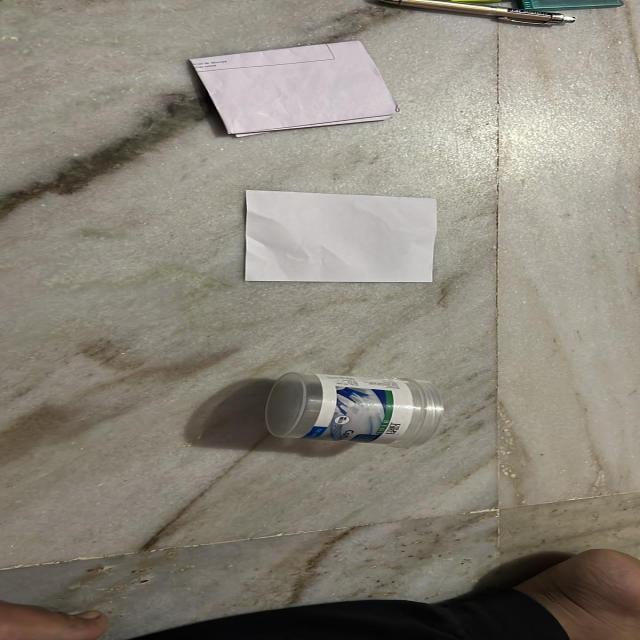dry: (169, 177, 533, 300), (222, 362, 530, 466), (181, 47, 459, 145), (364, 0, 598, 45)
